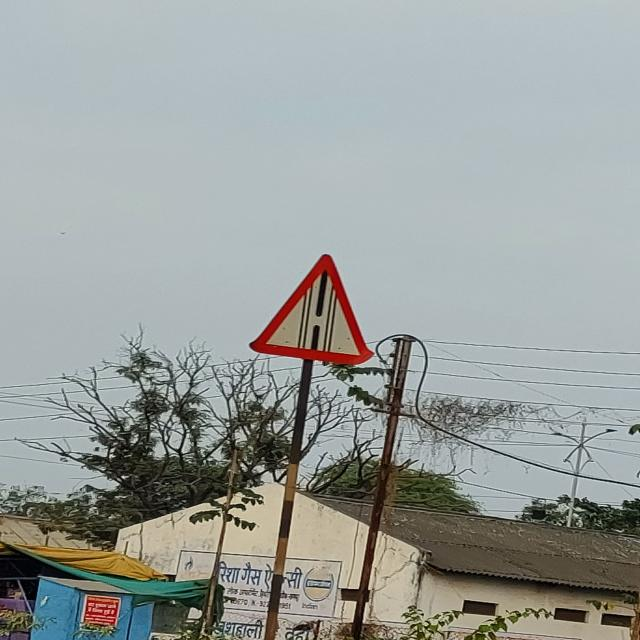GAP_IN_MEDIAN: (248, 252, 371, 366)
